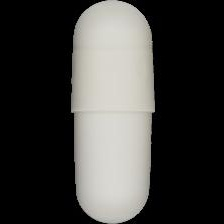68788-9879: (0, 0, 224, 224)
